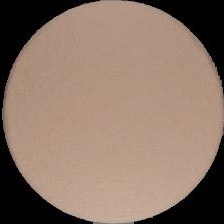69189-0023: (0, 0, 224, 224)
